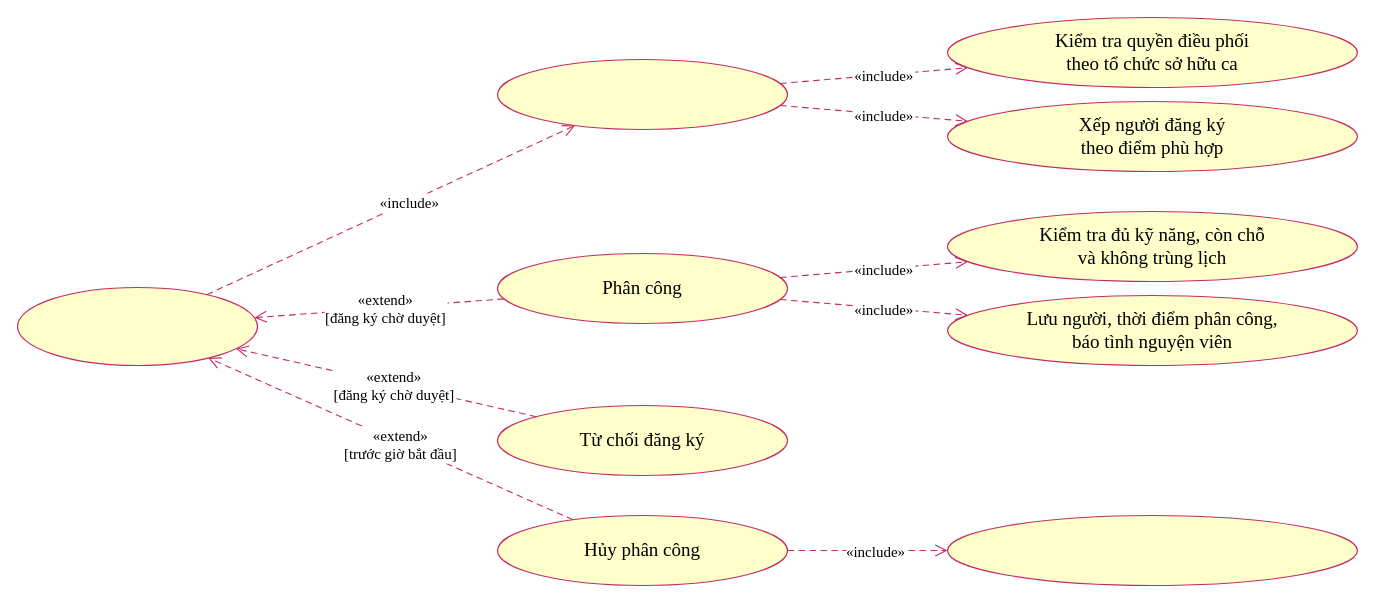
The diagram is 1376 pixels wide and 604 high, and some of its shapes have lost their labels. Each missing label, with the centre of its shape:
Trả lại chỗ cho ca, báo tình nguyện viên: point 1152,550
Xem người đăng ký của ca: point 642,94
Điều phối tình nguyện viên: point 137,326
